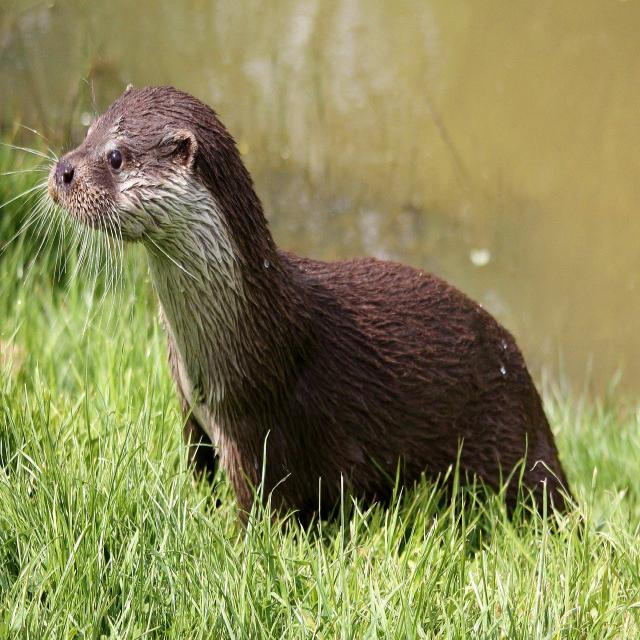otter: (48, 86, 569, 523)
